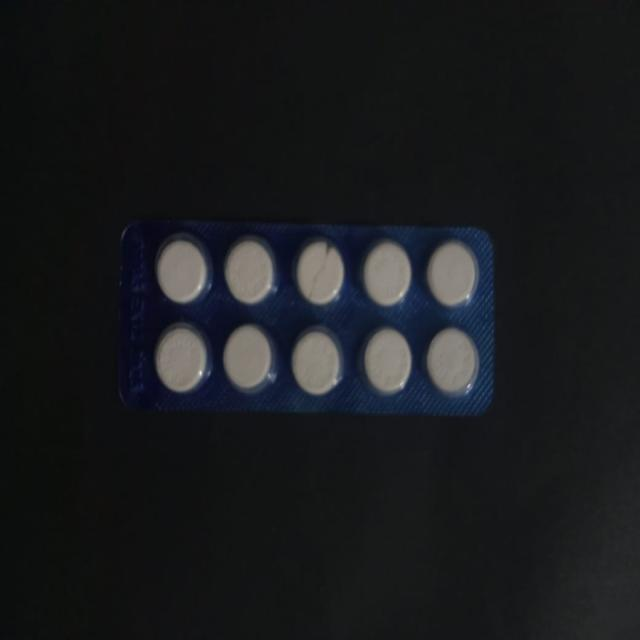defect: (293, 235, 347, 308)
